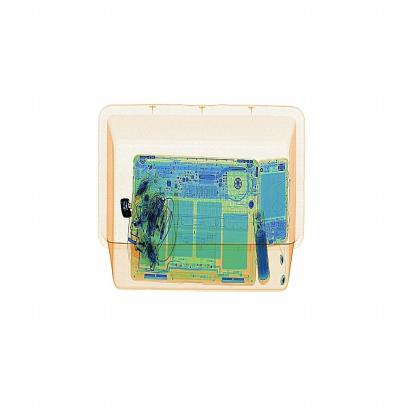wrench: (116, 187, 138, 221)
